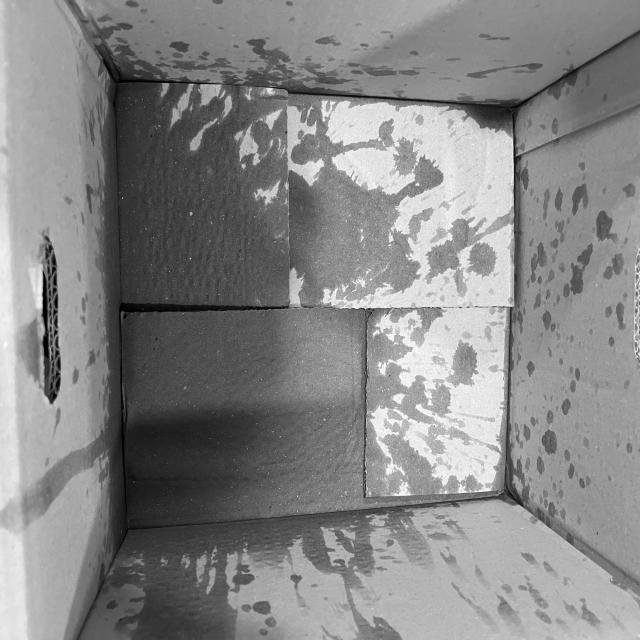wet: (107, 66, 515, 312), (121, 319, 514, 536)
